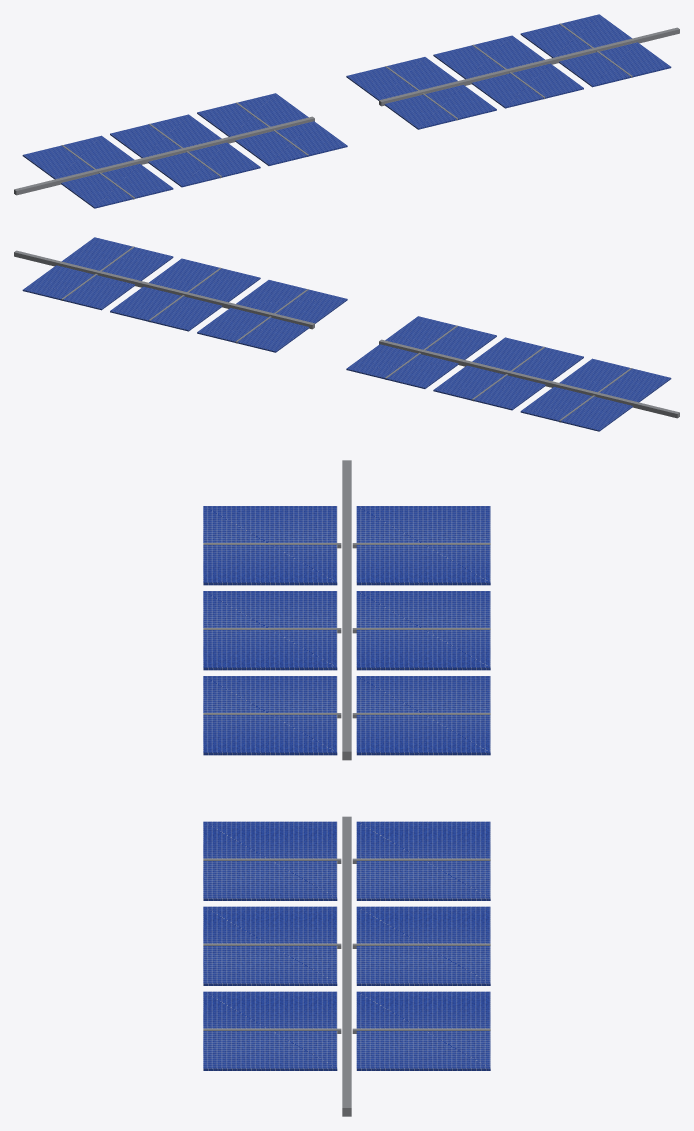
File: station_solar.obj
The picture shows the model from 3 angles, top to bottom: view 1: azimuth 30°, elevation 25°; view 2: azimuth 150°, elevation 25°; view 3: azimuth 270°, elevation 25°; orthographic projection. The views are drawn at different scales.
Visible parts, largest first — view 1: station_solar; view 2: station_solar; view 3: station_solar.
Part boxes in pixels (<box>): station_solar: <box>14,14,679,208</box>; station_solar: <box>14,237,679,431</box>; station_solar: <box>203,460,490,1116</box>.
Bounding box in the file's own units: 80 × 0.5 × 15.
2 materials, 1 textured.
